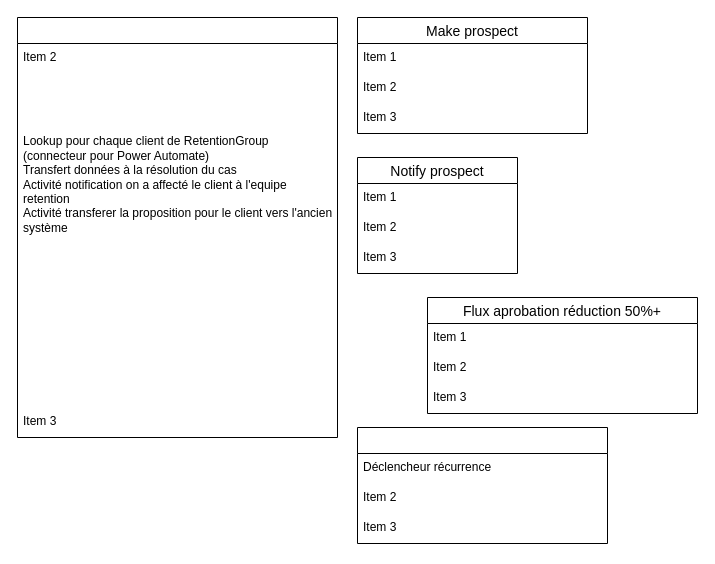
Some shapes in this 715 by 564 pixel diagram are drawn without their labels. Here are the shapes that lost their labels. From the top down, the box of each, then its label:
(16, 16, 338, 438): Connecteurs API
(356, 426, 608, 544): Supprimer après 28j +
